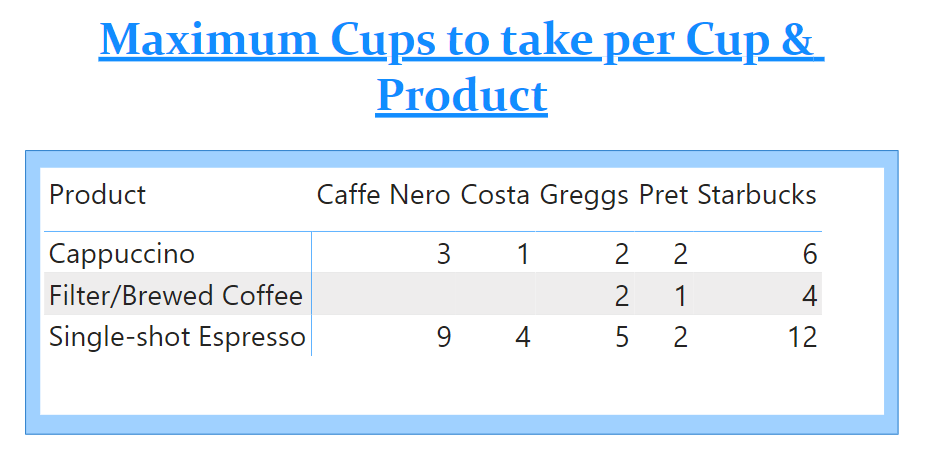

This screenshot's page, from the dashboard's own definition file:
{"tool":"powerbi","page":{"name":"Maximum Cups to take per Cup & Product","canvas":[1280,720],"ordinal":1},"visuals":[{"type":"shape","title":"DRINK OPTIONS","box":[117.4,203.5,1068.6,347.7],"z":0},{"type":"pivotTable","fields":{"Columns":["Caffeine Data.Seller"],"Values":["Caffeine Data.Maximum Coffee Cups"],"Rows":["Caffeine Data.Product"]},"box":[136,224.4,1032.6,302.3],"z":1000},{"type":"textbox","box":[117.3,27.2,1069.1,176.5],"z":2000}]}

Visuals, with their boxes on the page's 1280x720 design canvas (x1, y1, x2, y2). These are canvas units, not pixel positions in the 925x461 screenshot, which may show the page scaled, cropped or inside an application window:
"DRINK OPTIONS" shape: (left=117, top=204, right=1186, bottom=551)
pivotTable - Caffeine Data.Seller x Caffeine Data.Maximum Coffee Cups: (left=136, top=224, right=1169, bottom=527)
textbox: (left=117, top=27, right=1186, bottom=204)
